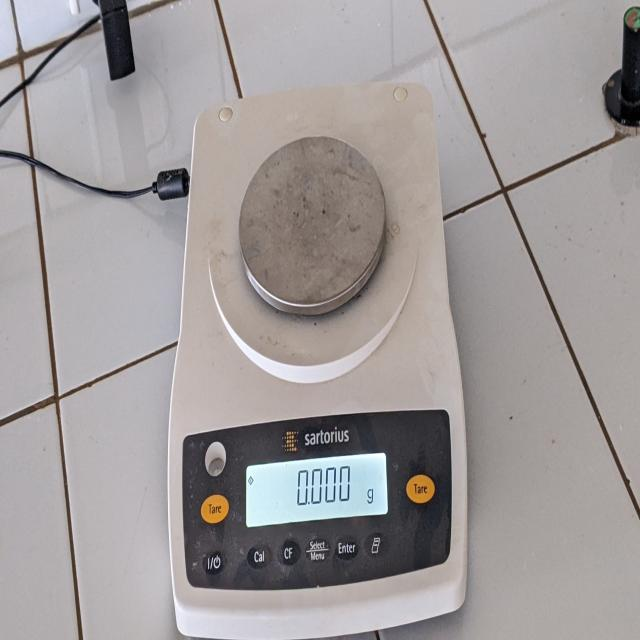Electronic Balance: (172, 73, 470, 623)
